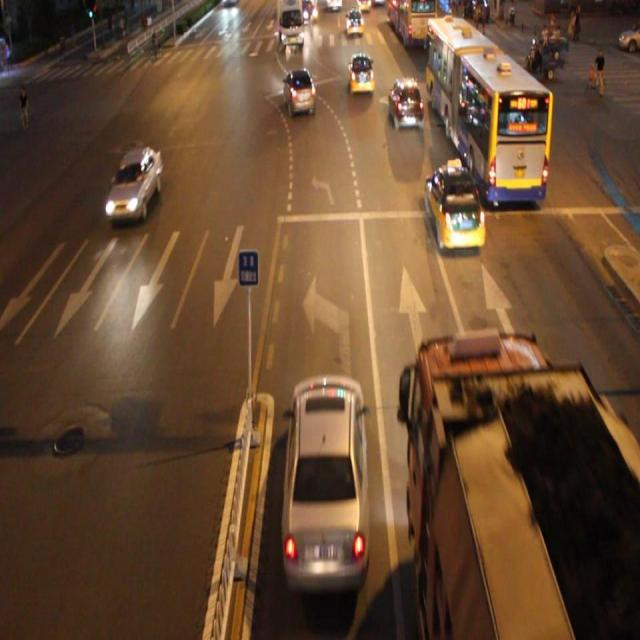bus: (405, 330, 639, 640)
car: (280, 375, 371, 589), (423, 159, 486, 251), (106, 145, 162, 221), (388, 75, 423, 132), (282, 67, 316, 116), (347, 51, 375, 95)
van: (425, 19, 551, 200)
